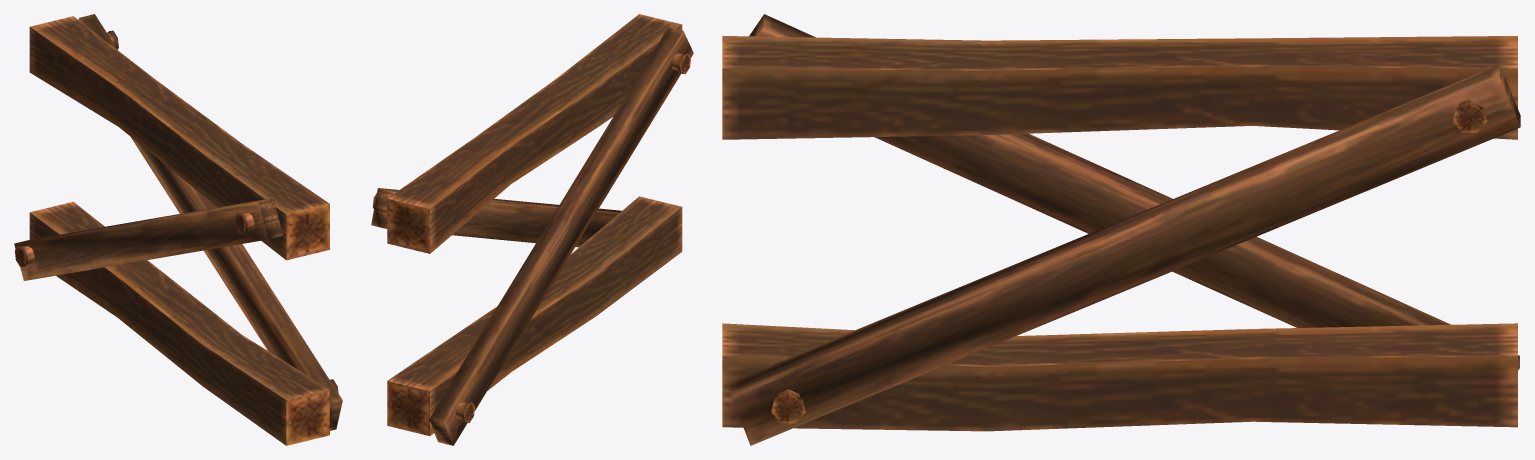
Rendered from INST_SWORDLIGHT_SCFLDNGH.fbx.
The picture shows the model from 3 angles, left to right: view 1: azimuth 30°, elevation 25°; view 2: azimuth 150°, elevation 25°; view 3: azimuth 270°, elevation 25°; orthographic projection. The views are drawn at different scales.
Parts seen in each view (by area): view 1: INST_SWORDLIGHT_SCFLDNGH; view 2: INST_SWORDLIGHT_SCFLDNGH; view 3: INST_SWORDLIGHT_SCFLDNGH.
Boxes of the visible parts, left/top/right/bottom form: INST_SWORDLIGHT_SCFLDNGH: left=14, top=14, right=342, bottom=445; INST_SWORDLIGHT_SCFLDNGH: left=371, top=14, right=693, bottom=445; INST_SWORDLIGHT_SCFLDNGH: left=722, top=14, right=1520, bottom=445.
Size of the model in its own units: 4150 by 10703 by 19909.
Materials: 2 (2 with a texture image).
